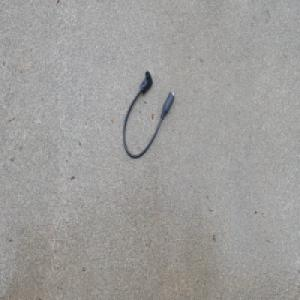Wire: (122, 69, 175, 160)
